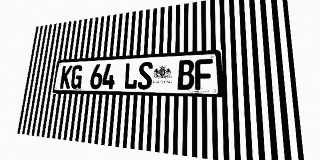4: (102, 63, 116, 89)
6: (89, 64, 104, 89)
B: (177, 59, 194, 90)
F: (195, 59, 213, 90)
G: (70, 65, 83, 89)
K: (59, 65, 73, 89)
L: (123, 62, 138, 89)
S: (137, 61, 153, 90)
